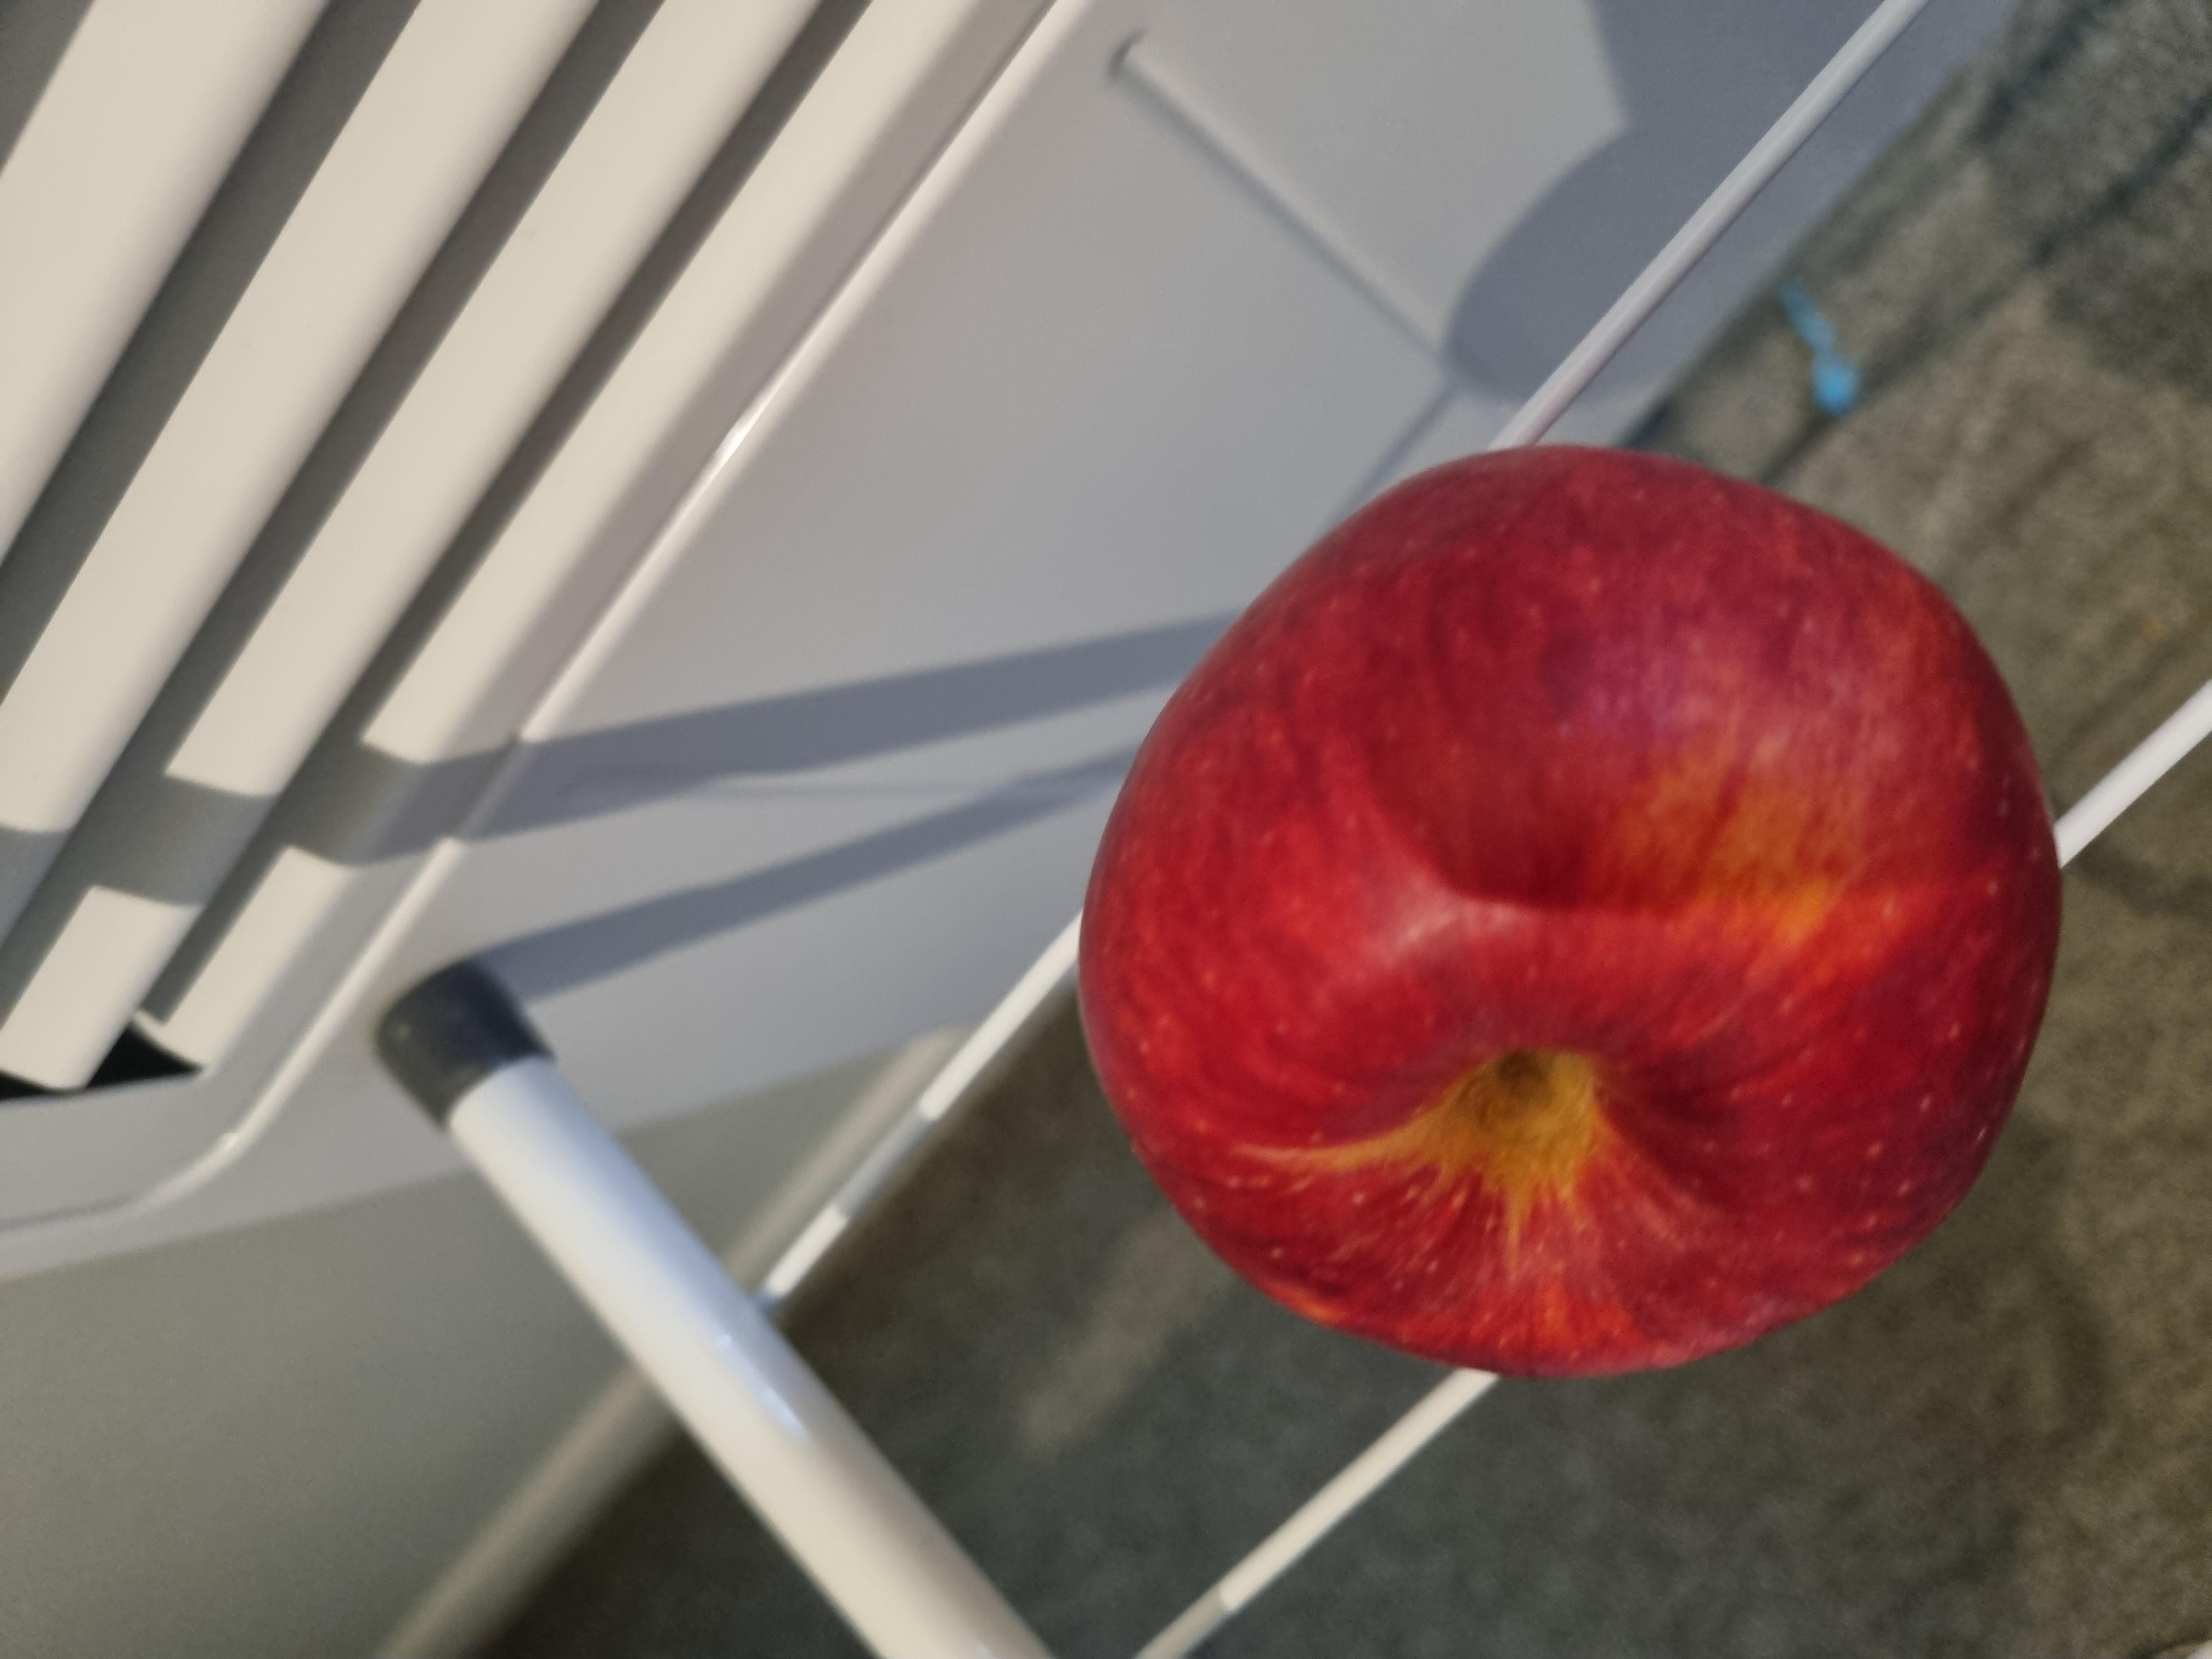Apple: (333, 791, 1635, 1551)
